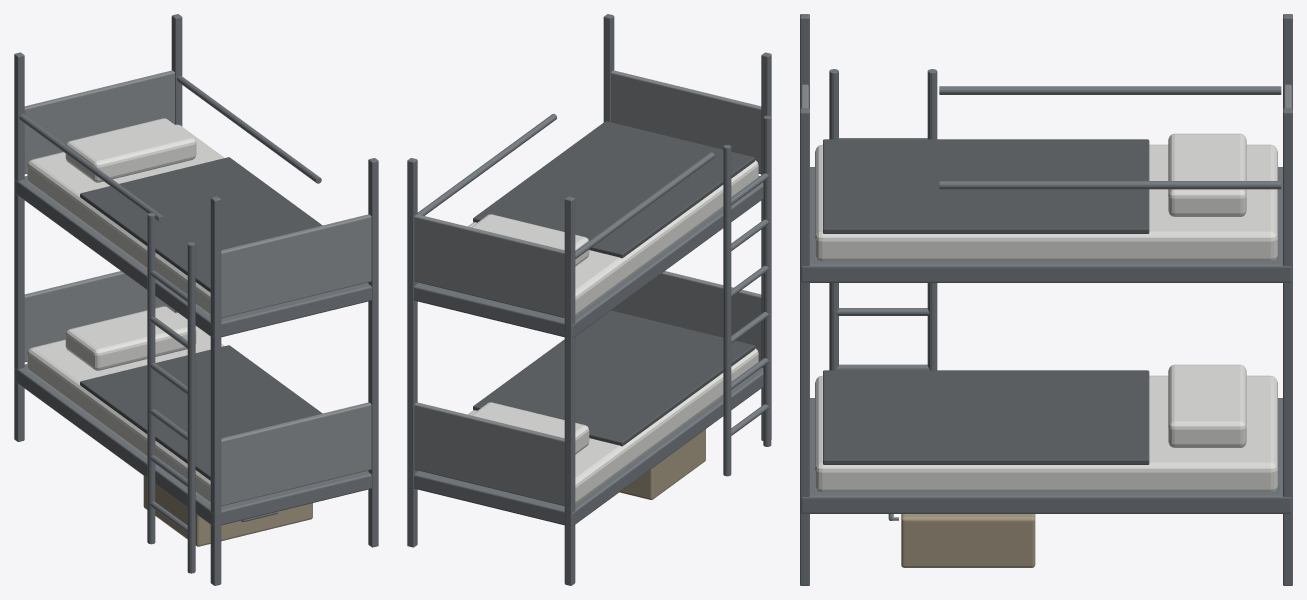
Rendered from BL_StaffBunk.fbx.
3 renders of one model, left to right at view 1: azimuth 30°, elevation 25°; view 2: azimuth 150°, elevation 25°; view 3: azimuth 270°, elevation 25°, orthographic. The views are drawn at different scales.
Parts seen in each view (by area): view 1: BL_StaffBunk_LOD0; view 2: BL_StaffBunk_LOD0; view 3: BL_StaffBunk_LOD0.
Boxes of the visible parts, box(x1,y1,x2,y2) form: BL_StaffBunk_LOD0: box(14, 14, 378, 585); BL_StaffBunk_LOD0: box(407, 14, 771, 585); BL_StaffBunk_LOD0: box(800, 14, 1292, 585).
Size of what is drawn, in the model's own units: 113 by 234 by 220.
